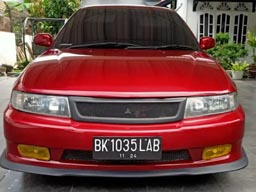plat: (93, 137, 161, 152)
